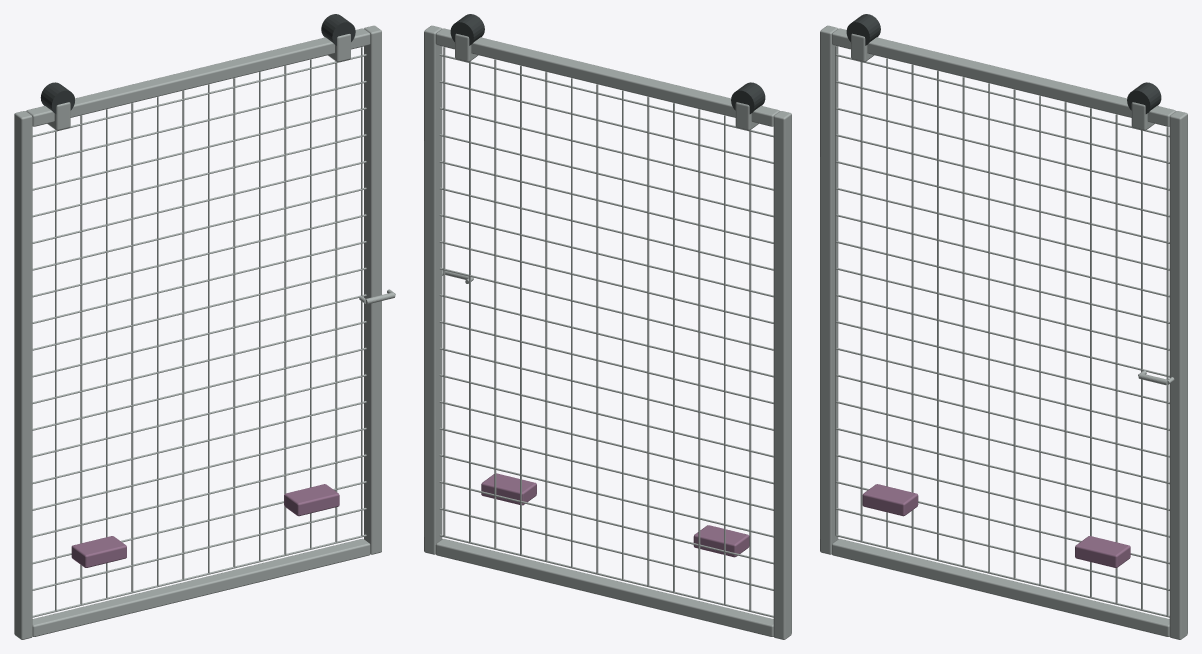
The model's file is museum-conservation-and-art-restoration-museum-conserv-3759ecd4__31877.glb.
3 renders of one model, left to right at view 1: azimuth 30°, elevation 25°; view 2: azimuth 150°, elevation 25°; view 3: azimuth 330°, elevation 25°, orthographic.
Parts seen in each view (by area): view 1: museum-conservation-and-art-restoration-sliding-painting-sto (×3); view 2: museum-conservation-and-art-restoration-sliding-painting-sto (×3); view 3: museum-conservation-and-art-restoration-sliding-painting-sto (×3).
Boxes of the visible parts, bbox=[...] form: museum-conservation-and-art-restoration-sliding-painting-sto (×3): bbox=[14, 14, 395, 639]; museum-conservation-and-art-restoration-sliding-painting-sto (×3): bbox=[424, 14, 791, 639]; museum-conservation-and-art-restoration-sliding-painting-sto (×3): bbox=[820, 14, 1187, 639].
Bounding box in the file's own units: 1.7 × 2.43 × 0.192.
